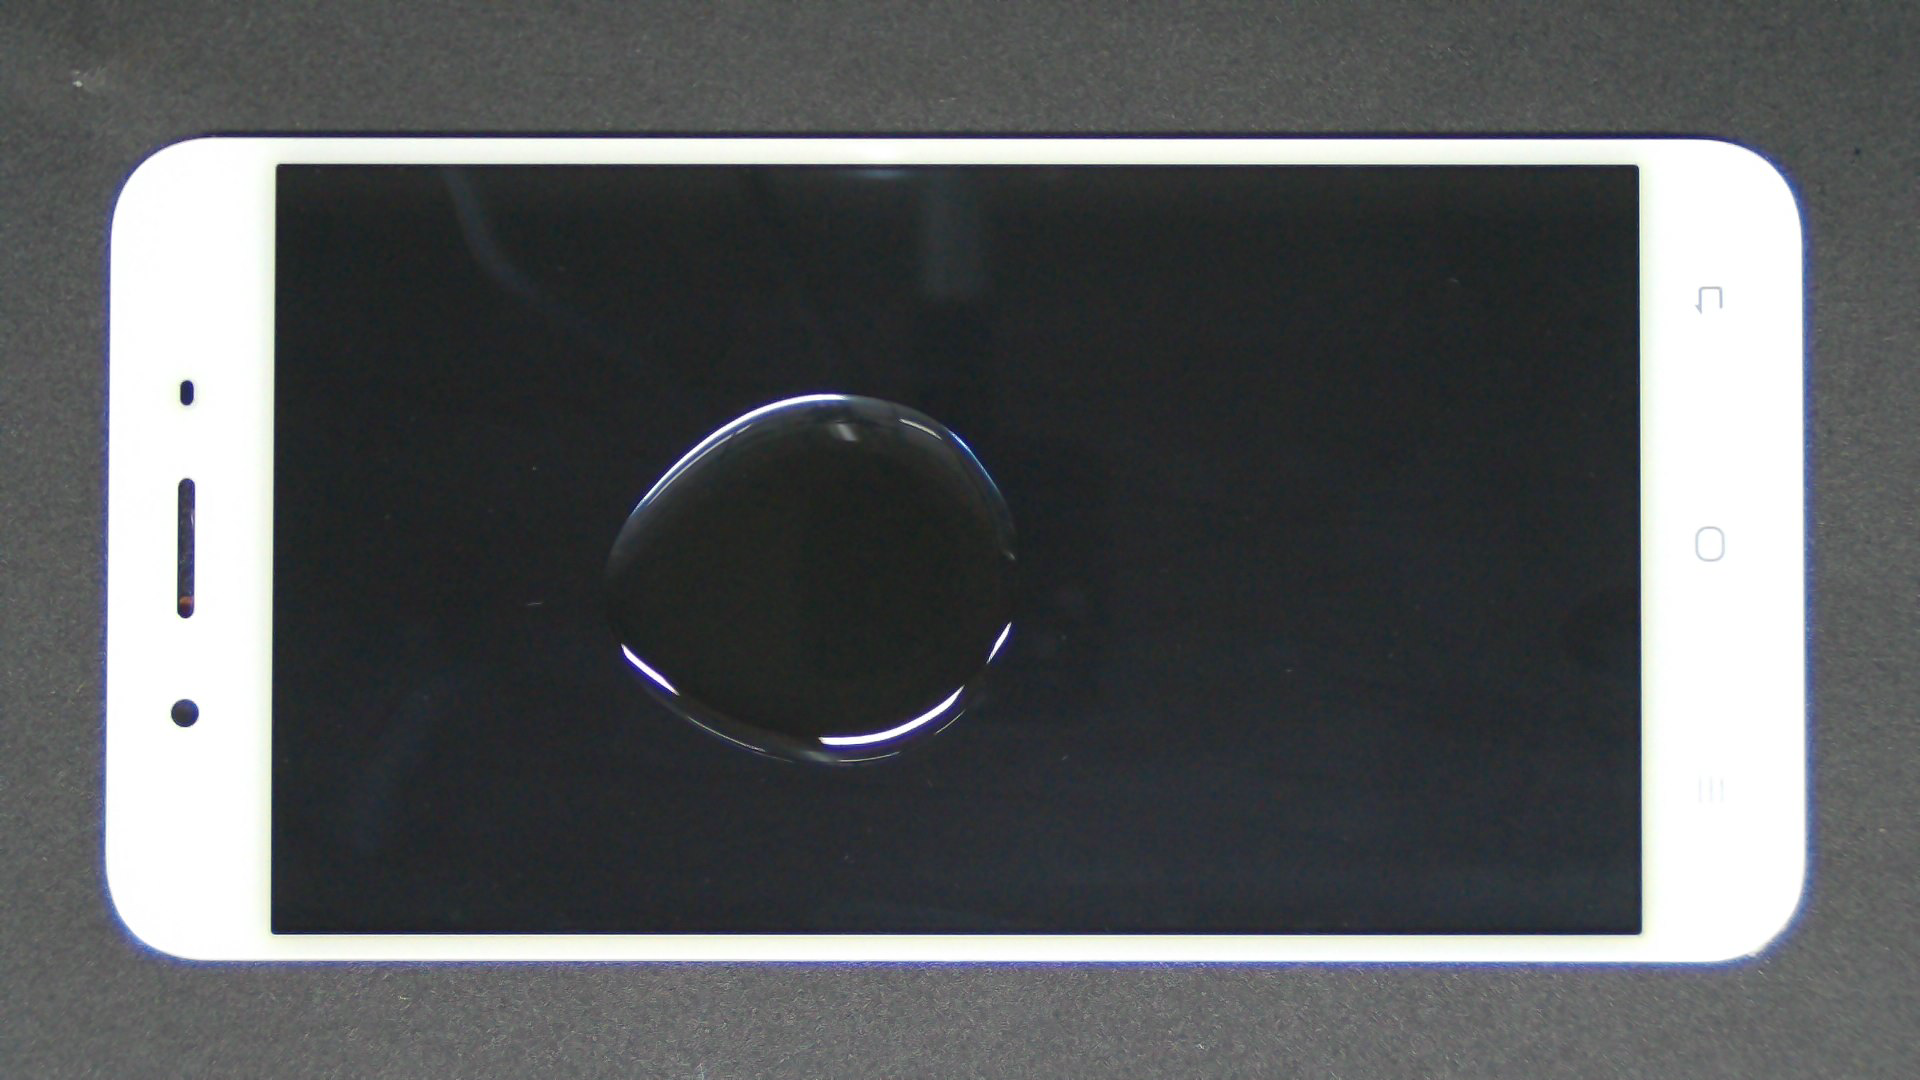defect: (601, 393, 1019, 765)
